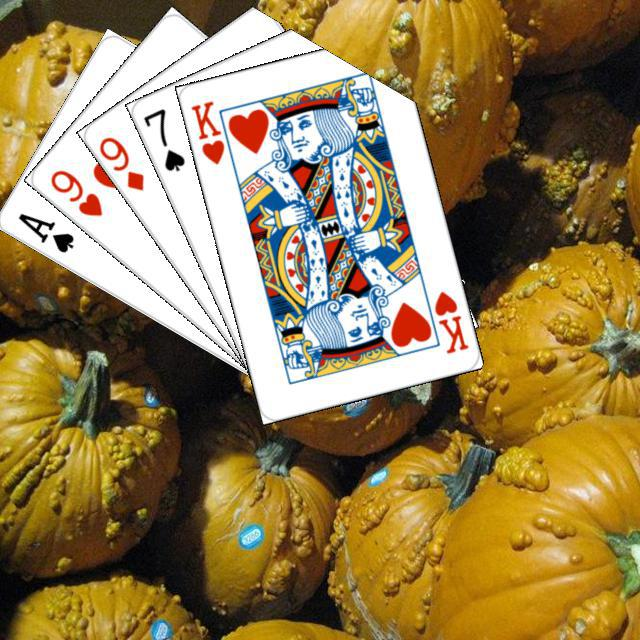7s: (138, 103, 187, 173)
9d: (94, 131, 146, 193)
9h: (45, 164, 105, 219)
As: (13, 208, 76, 255)
Kh: (186, 95, 237, 169), (429, 286, 470, 356)
